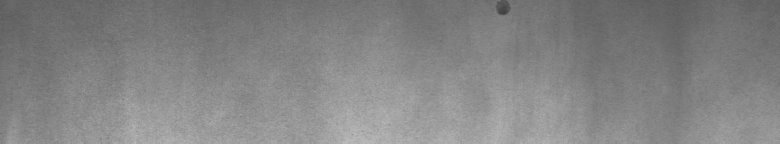fi: (492, 4, 515, 23)
